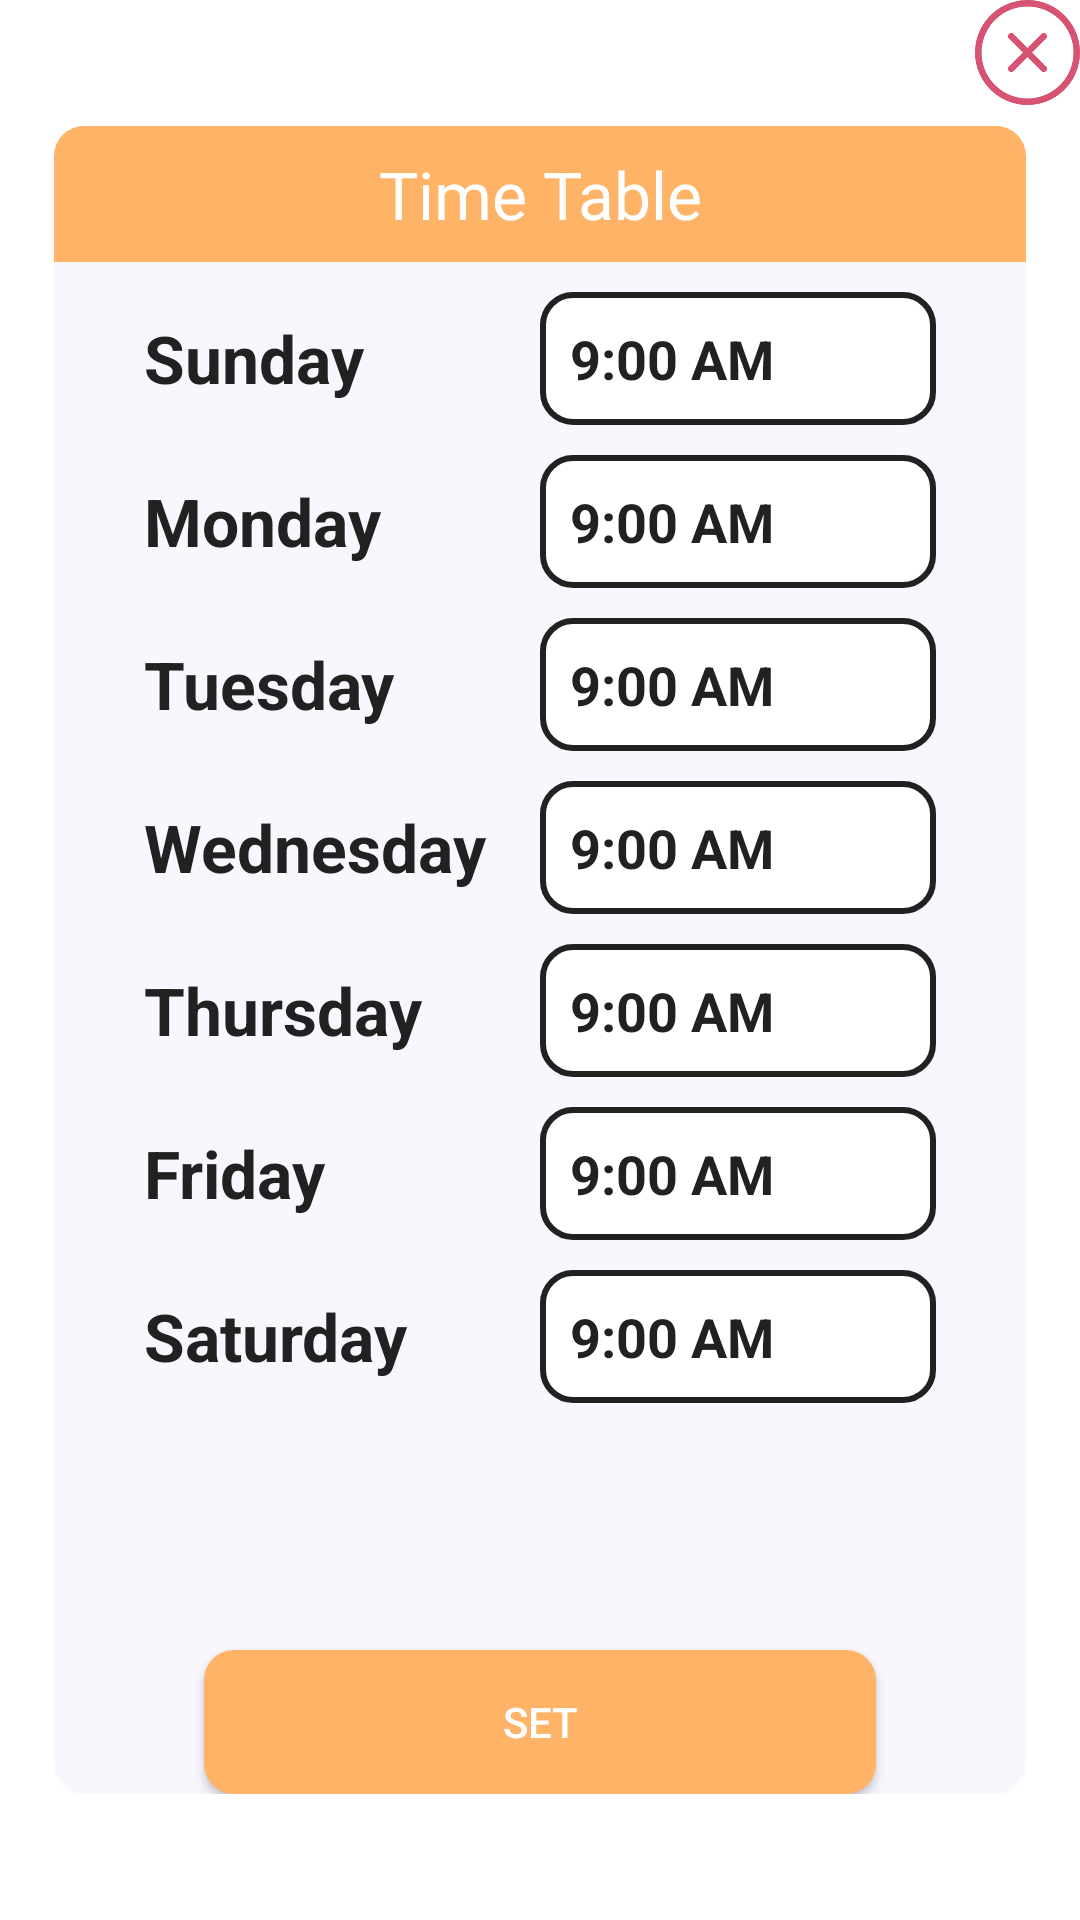

Where to tap for icons on this 1080x1920 app screen, as (x,y):
remove: (1027,52)
